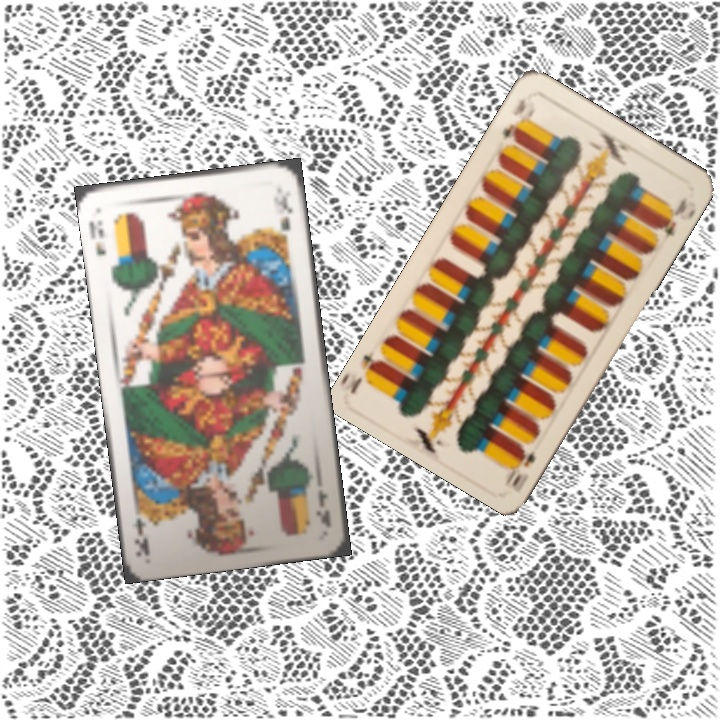E10: (498, 92, 538, 145), (501, 446, 538, 490)
EK: (85, 216, 109, 258), (312, 484, 333, 530)
